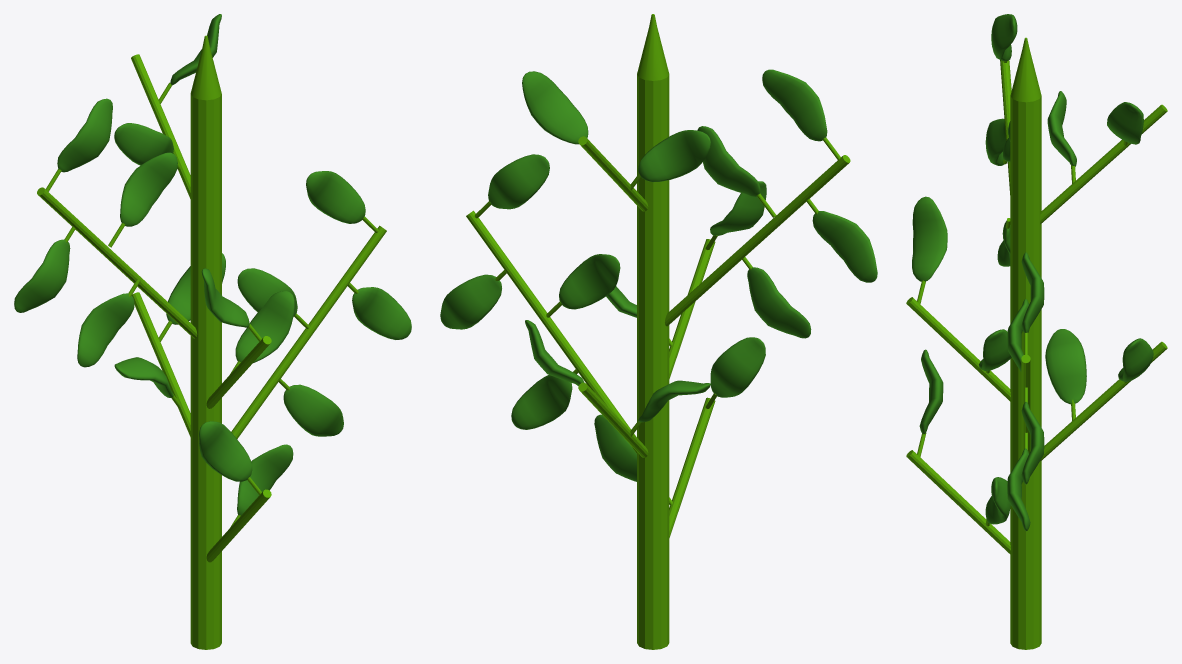
The model's file is coca4.fbx.
3 renders of one model, left to right at view 1: azimuth 30°, elevation 25°; view 2: azimuth 150°, elevation 25°; view 3: azimuth 270°, elevation 25°, orthographic. The views are drawn at different scales.
Parts seen in each view (by area): view 1: Stalk, Branch3, CocaLeaf5, CocaLeaf6, CocaLeaf13, CocaLeaf12, CocaLeaf1, CocaLeaf2, CocaLeaf8, CocaLeaf3, CocaLeaf4, Branch2 (+11 smaller); view 2: Stalk, CocaLeaf9, CocaLeaf11, Branch2, CocaLeaf4, CocaLeaf3, Branch3, CocaLeaf1, CocaLeaf2, CocaLeaf12, CocaLeaf7, CocaLeaf8 (+10 smaller); view 3: Stalk, CocaLeaf16, CocaLeaf14, Twig6, Twig5, Twig16, Twig19, CocaLeaf9, CocaLeaf15, CocaLeaf11, CocaLeaf2, CocaLeaf12 (+10 smaller).
Boxes of the visible parts, x1=… form: Stalk: x1=190, y1=35, x2=221, y2=649; Branch3: x1=231, y1=225, x2=386, y2=438; CocaLeaf5: x1=120, y1=152, x2=177, y2=226; CocaLeaf6: x1=77, y1=293, x2=134, y2=367; CocaLeaf13: x1=235, y1=291, x2=294, y2=362; CocaLeaf12: x1=199, y1=421, x2=252, y2=481; CocaLeaf1: x1=306, y1=171, x2=365, y2=223; CocaLeaf2: x1=352, y1=287, x2=411, y2=339; CocaLeaf8: x1=283, y1=384, x2=343, y2=436; CocaLeaf3: x1=14, y1=239, x2=70, y2=312; CocaLeaf4: x1=57, y1=98, x2=112, y2=172; Branch2: x1=37, y1=187, x2=197, y2=338; Stalk: x1=637, y1=14, x2=669, y2=649; CocaLeaf9: x1=522, y1=71, x2=588, y2=144; CocaLeaf11: x1=638, y1=130, x2=710, y2=182; Branch2: x1=665, y1=155, x2=850, y2=326; CocaLeaf4: x1=762, y1=69, x2=827, y2=141; CocaLeaf3: x1=812, y1=211, x2=877, y2=282; Branch3: x1=466, y1=210, x2=636, y2=453; CocaLeaf1: x1=488, y1=154, x2=549, y2=209; CocaLeaf2: x1=440, y1=274, x2=501, y2=329; CocaLeaf12: x1=710, y1=337, x2=765, y2=397; CocaLeaf7: x1=559, y1=254, x2=620, y2=309; CocaLeaf8: x1=511, y1=375, x2=572, y2=429; Stalk: x1=1010, y1=37, x2=1041, y2=649; CocaLeaf16: x1=1045, y1=329, x2=1086, y2=404; CocaLeaf14: x1=912, y1=196, x2=947, y2=281; Twig6: x1=1040, y1=104, x2=1167, y2=224; Twig5: x1=906, y1=450, x2=1010, y2=553; Twig16: x1=906, y1=297, x2=1010, y2=401; Twig19: x1=1040, y1=341, x2=1167, y2=461; CocaLeaf9: x1=1107, y1=102, x2=1143, y2=144; CocaLeaf15: x1=1118, y1=338, x2=1153, y2=381; CocaLeaf11: x1=1047, y1=91, x2=1076, y2=166; CocaLeaf2: x1=1021, y1=402, x2=1044, y2=484; CocaLeaf12: x1=919, y1=349, x2=943, y2=434.
Size of the model in its own units: 6.94 by 9.83 by 3.85.
